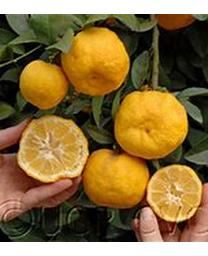lemon: (16, 116, 90, 185), (113, 91, 187, 158), (61, 28, 129, 94), (85, 151, 146, 208), (148, 164, 202, 222), (19, 62, 70, 111)
